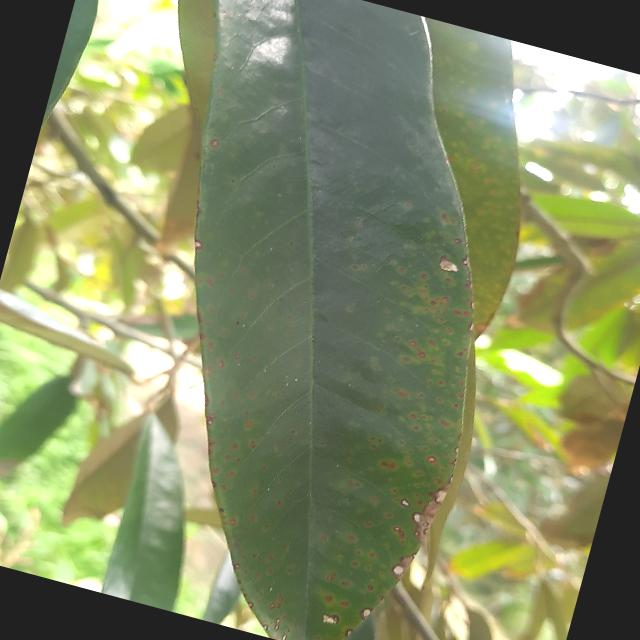Leaf Spot: (16, 0, 581, 639)
